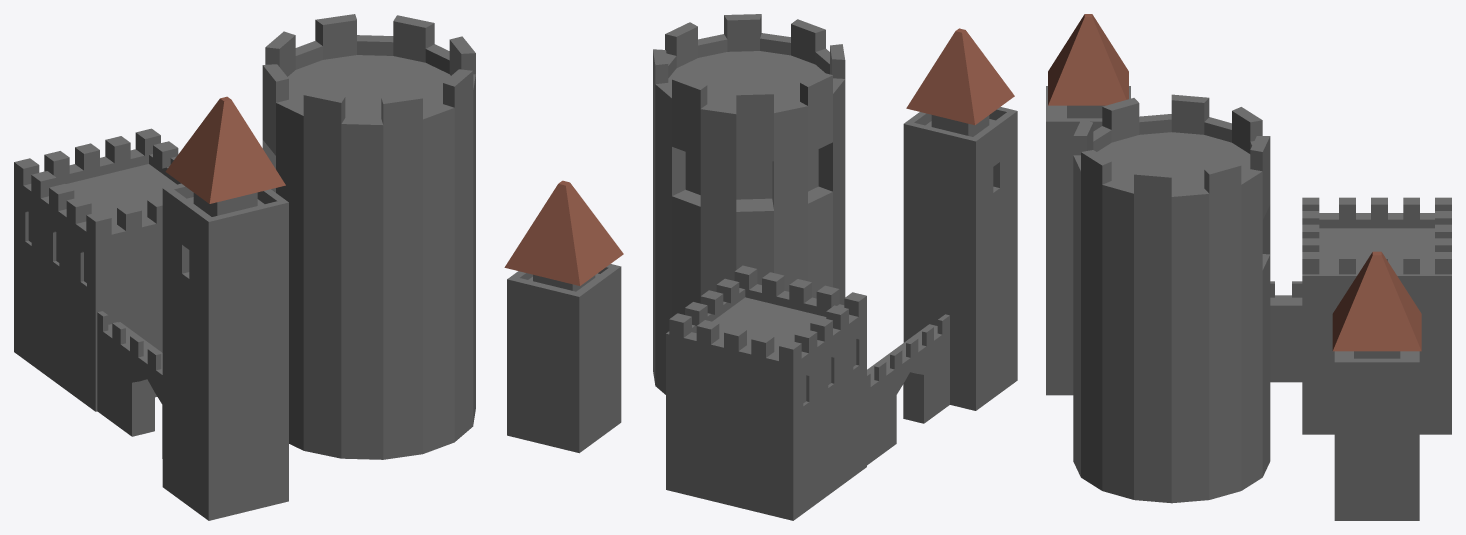
Rendered from Castle.fbx.
The picture shows the model from 3 angles, left to right: view 1: azimuth 30°, elevation 25°; view 2: azimuth 150°, elevation 25°; view 3: azimuth 270°, elevation 25°; orthographic projection. The views are drawn at different scales.
Visible parts, largest first — view 1: Castle; view 2: Castle; view 3: Castle.
Boxes of the visible parts, <box> form: Castle: <box>14,14,475,520</box>; Castle: <box>504,14,1017,520</box>; Castle: <box>1046,14,1451,520</box>.
Size of the model in its own units: 1.78 by 1.85 by 1.88.
